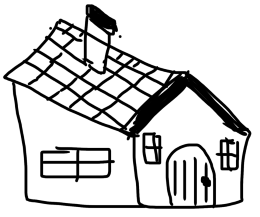bottom_placed_house: (1, 1, 260, 217)
chimney: (76, 1, 127, 73)
closed_window: (33, 142, 117, 181), (215, 134, 242, 174), (139, 130, 164, 169)
door: (162, 142, 219, 212)
roof: (0, 16, 256, 135)
wall: (121, 68, 254, 211)
